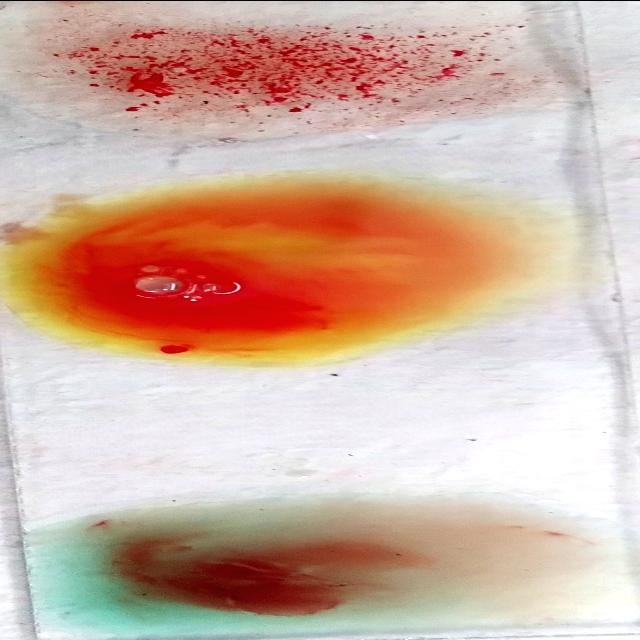D: (42, 10, 544, 146)
